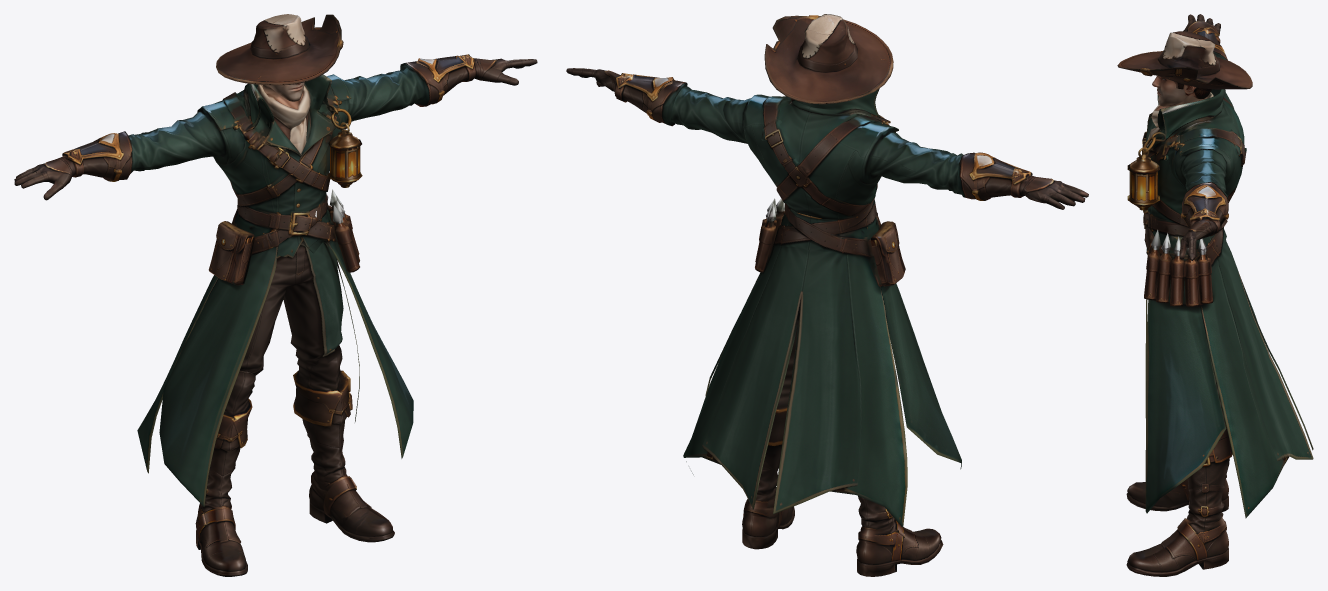
File: EX_exhumer_vA.glb
The picture shows the model from 3 angles, left to right: view 1: azimuth 30°, elevation 25°; view 2: azimuth 150°, elevation 25°; view 3: azimuth 270°, elevation 25°; orthographic projection. The views are drawn at different scales.
Visible parts, largest first — view 1: fdd90aab_2edf_4407_bd27_3780c07f9777; view 2: fdd90aab_2edf_4407_bd27_3780c07f9777; view 3: fdd90aab_2edf_4407_bd27_3780c07f9777.
Part boxes in pixels (bbox=[...]): fdd90aab_2edf_4407_bd27_3780c07f9777: bbox=[14, 14, 537, 576]; fdd90aab_2edf_4407_bd27_3780c07f9777: bbox=[566, 14, 1088, 576]; fdd90aab_2edf_4407_bd27_3780c07f9777: bbox=[1117, 14, 1313, 576].
Bounding box in the file's own units: 0.9995 × 0.9624 × 0.3403.
Materials: 1 (1 with a texture image).
